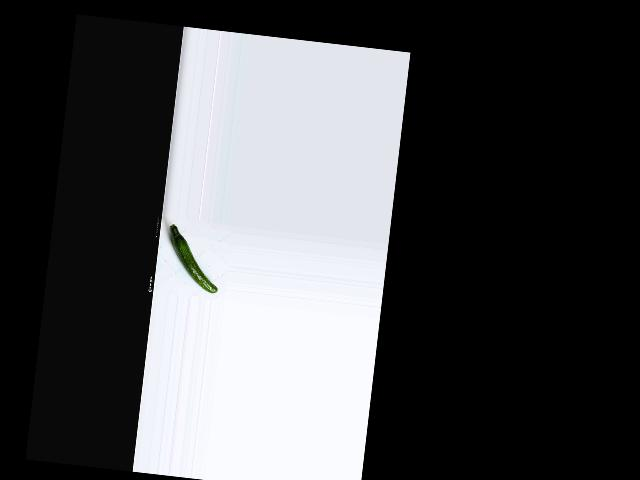cucumber: (163, 223, 224, 293)
